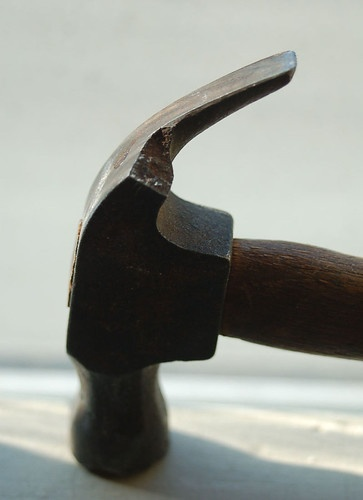hammer: (66, 52, 363, 473)
